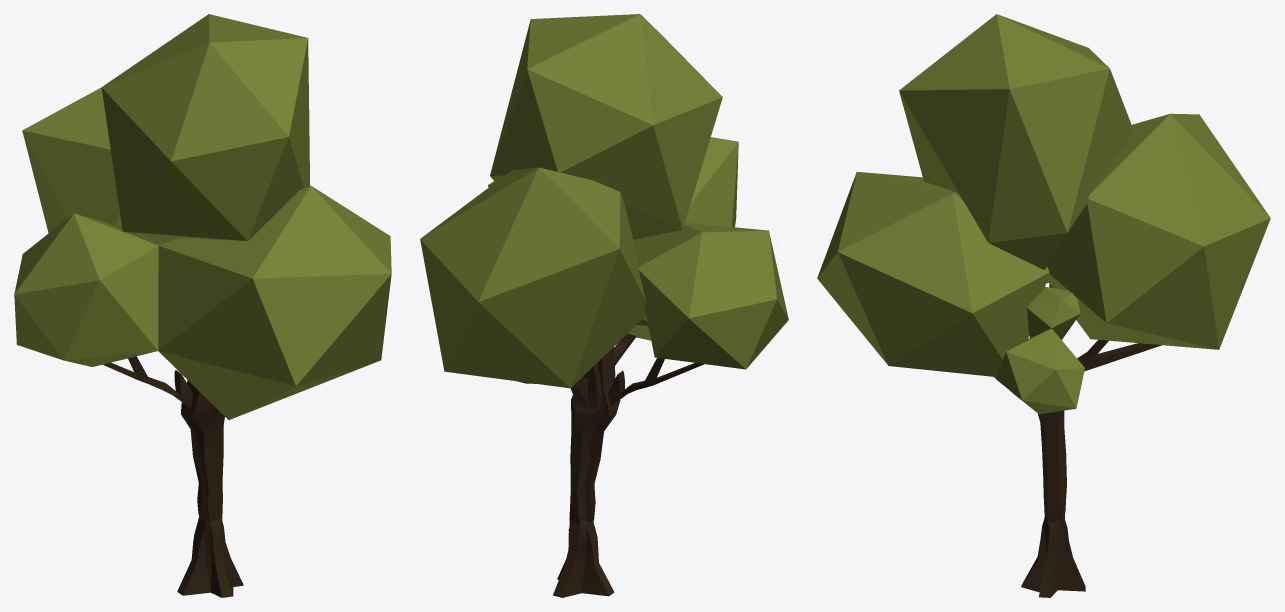
The model's file is Tree_Large.fbx.
3 views of the same model, side by side, from view 1: azimuth 30°, elevation 25°; view 2: azimuth 150°, elevation 25°; view 3: azimuth 270°, elevation 25° (orthographic). The views are drawn at different scales.
Visible parts, largest first — view 1: Tree_Large_Foliage, Tree_Large_Trunk, Tree_Large_Base; view 2: Tree_Large_Foliage, Tree_Large_Trunk, Tree_Large_Base; view 3: Tree_Large_Foliage, Tree_Large_Trunk, Tree_Large_Base.
Boxes of the visible parts, left/top/right/bottom form: Tree_Large_Foliage: left=14, top=14, right=391, bottom=419; Tree_Large_Trunk: left=103, top=356, right=224, bottom=522; Tree_Large_Base: left=177, top=516, right=243, bottom=597; Tree_Large_Foliage: left=420, top=14, right=788, bottom=388; Tree_Large_Trunk: left=518, top=333, right=704, bottom=521; Tree_Large_Base: left=553, top=518, right=614, bottom=597; Tree_Large_Foliage: left=817, top=14, right=1270, bottom=414; Tree_Large_Trunk: left=993, top=284, right=1161, bottom=522; Tree_Large_Base: left=1021, top=515, right=1085, bottom=597.
Bounding box in the file's own units: 397 × 645 × 477.
